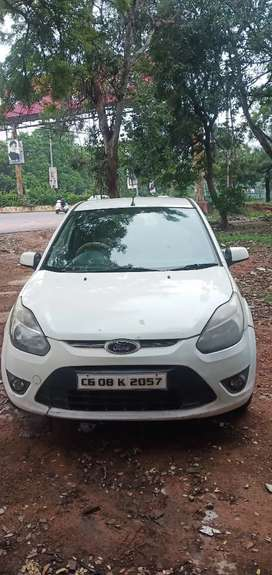CG08K2057: (76, 372, 165, 390)
